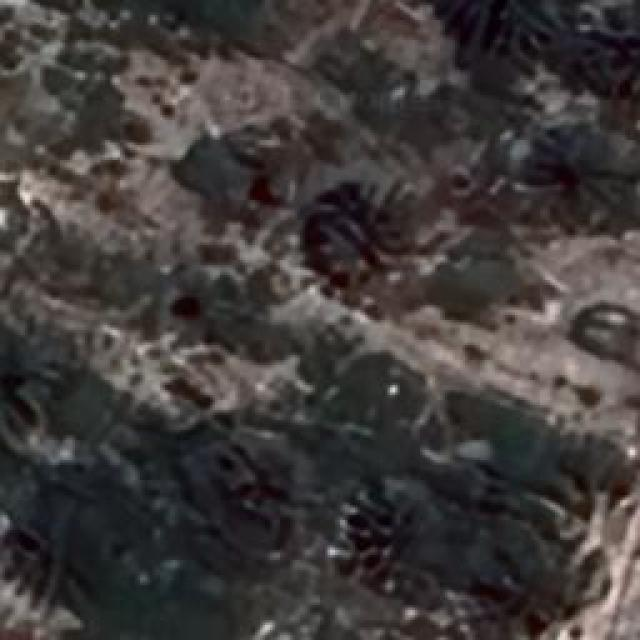PalmTree: (12, 494, 106, 612), (302, 182, 412, 280), (522, 129, 628, 229), (346, 482, 444, 586), (447, 0, 555, 68), (0, 332, 60, 450), (582, 16, 640, 99)
